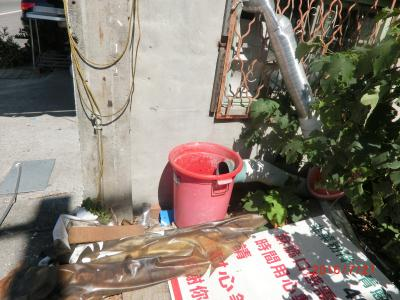bucket: (167, 140, 244, 229)
plastic_bag: (61, 231, 235, 296)
